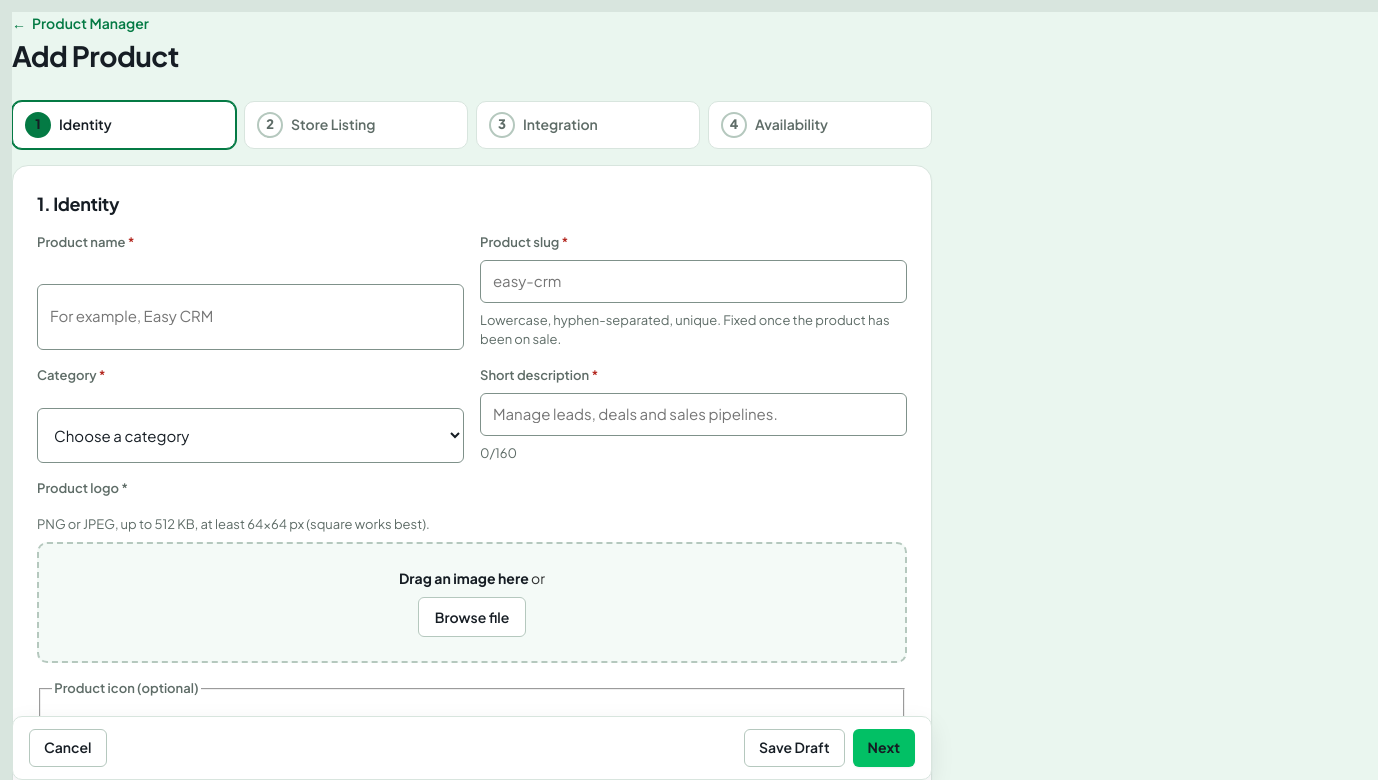
Add Product wizard › suggests the slug from the name, shows the permanent code and refuses a slug in use
The width and height of the screenshot is (1378, 780).
In the field labelled "Product name *": (250,316) [37,284,464,350], type "Draft Tool"
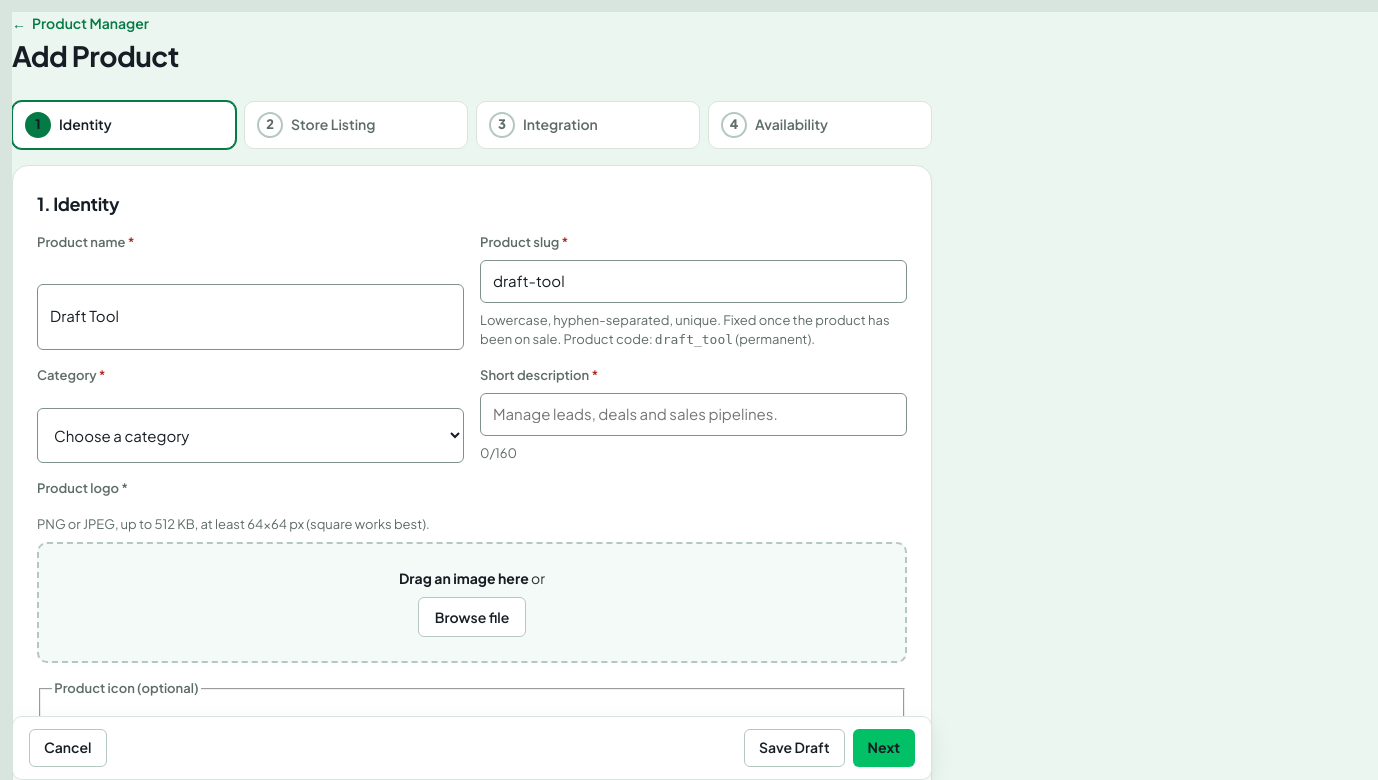
Expected: the field labelled "Product slug *" holds "draft-tool", [480,260,907,302]
Expected: the text "draft_tool" is shown, [655,332,733,347]
Click the button "Next": (884,748) [853,729,915,767]
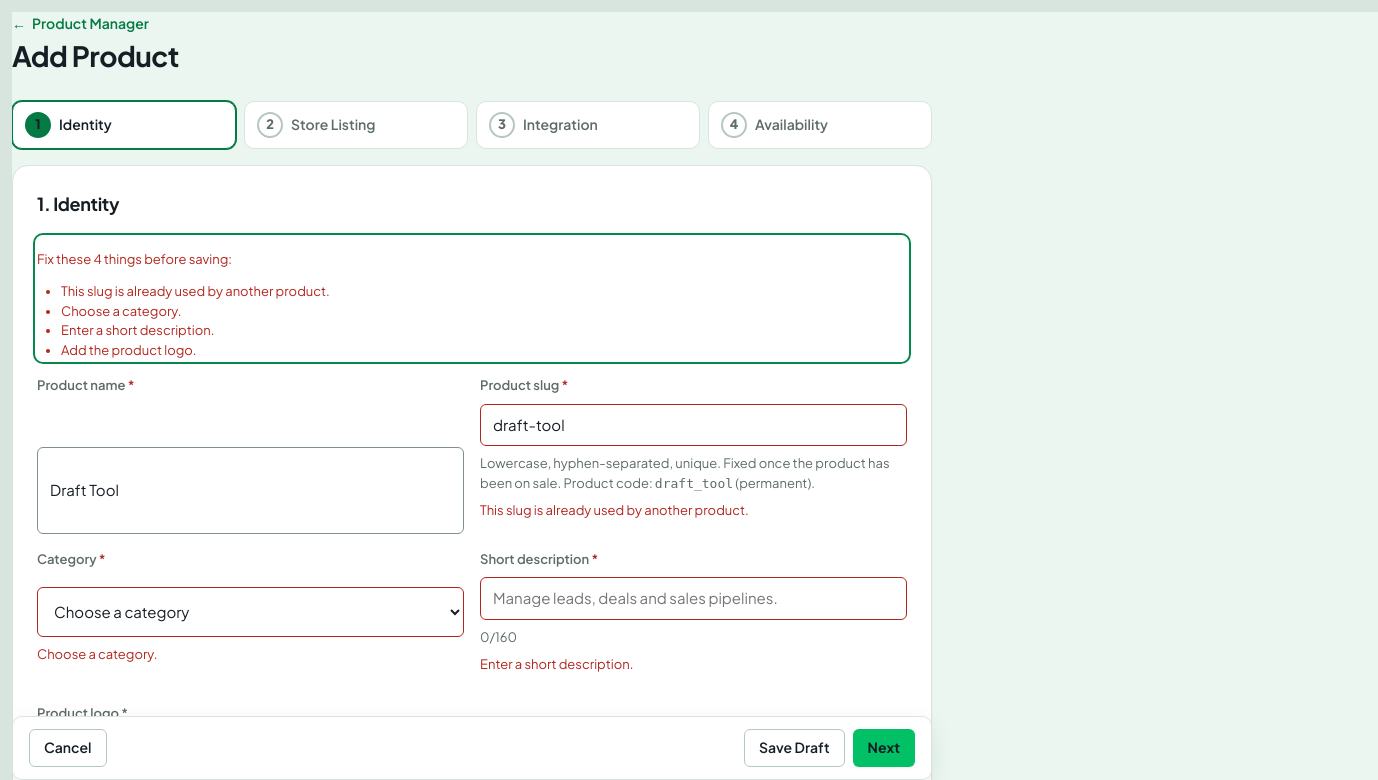
Expected: the list item "This slug is already used by another product." is shown, [61,283,330,299]
